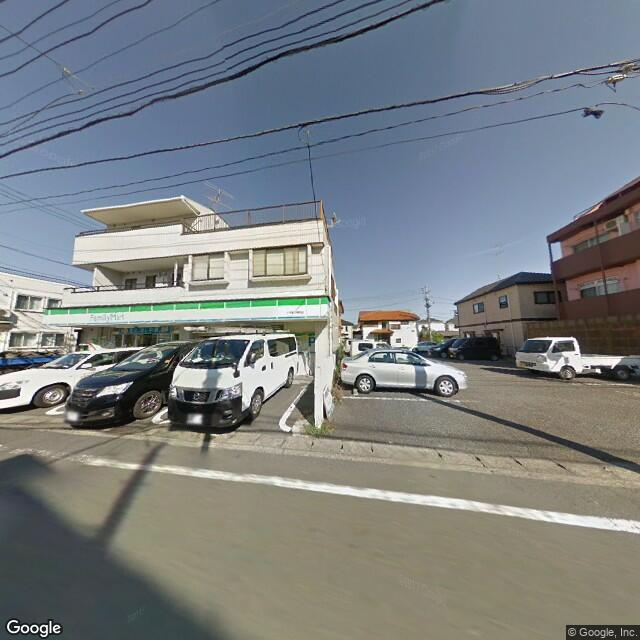family_mart: (48, 295, 332, 327)
